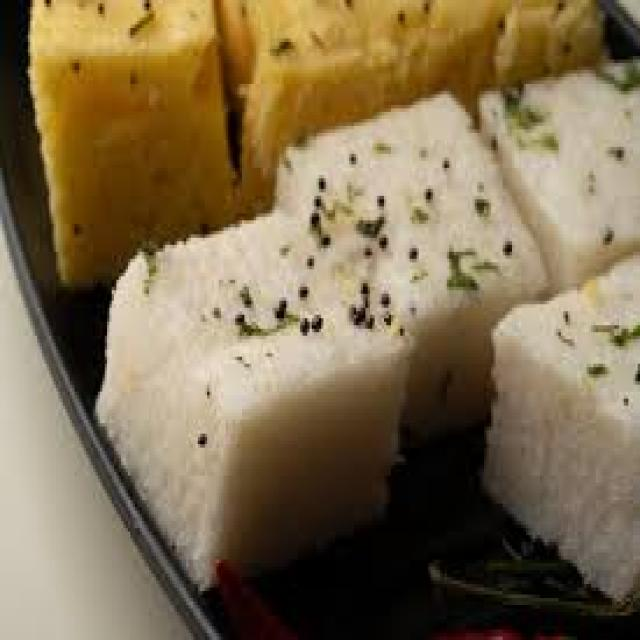DHOKLA: (90, 206, 413, 577), (284, 83, 546, 448), (224, 4, 611, 216), (27, 0, 241, 297), (481, 250, 638, 617), (466, 55, 638, 287)
